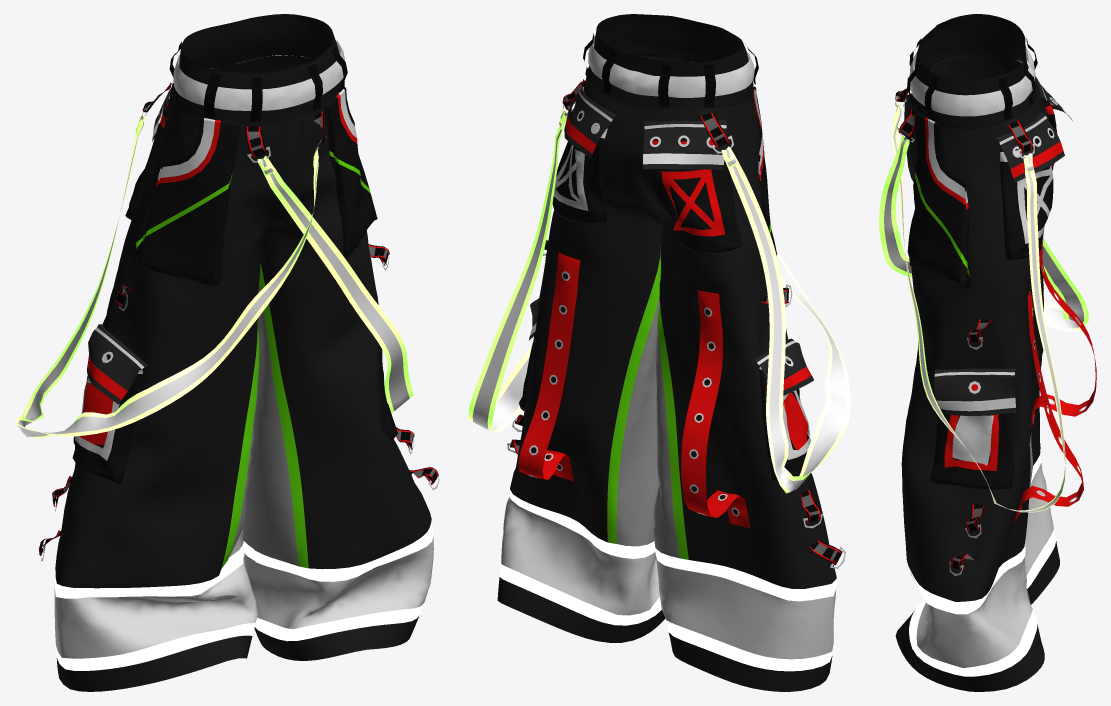
The model's file is pants.glb.
The picture shows the model from 3 angles, left to right: view 1: azimuth 30°, elevation 25°; view 2: azimuth 150°, elevation 25°; view 3: azimuth 270°, elevation 25°; orthographic projection. The views are drawn at different scales.
Visible parts, largest first — view 1: Rave Pants - black_0; view 2: Rave Pants - black_0; view 3: Rave Pants - black_0.
Part boxes in pixels (<box>): Rave Pants - black_0: <box>14,14,439,691</box>; Rave Pants - black_0: <box>468,14,850,691</box>; Rave Pants - black_0: <box>879,14,1096,691</box>.
Bounding box in the file's own units: 0.7864 × 1.25 × 0.4237.
